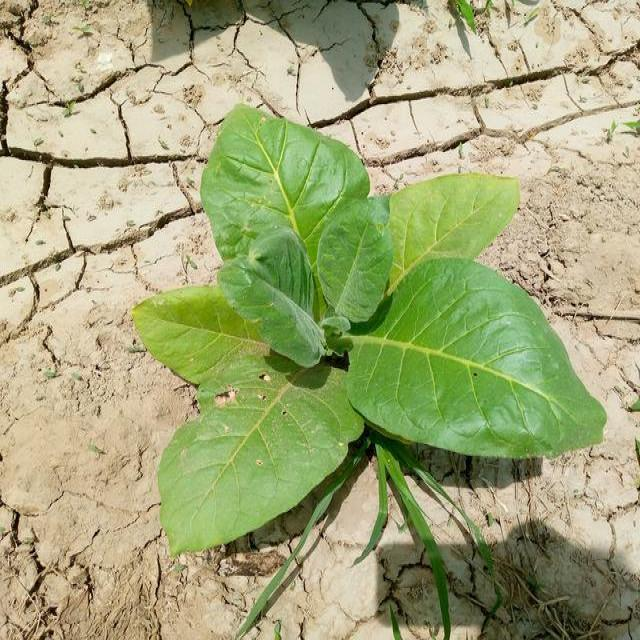crop: (140, 106, 608, 548)
